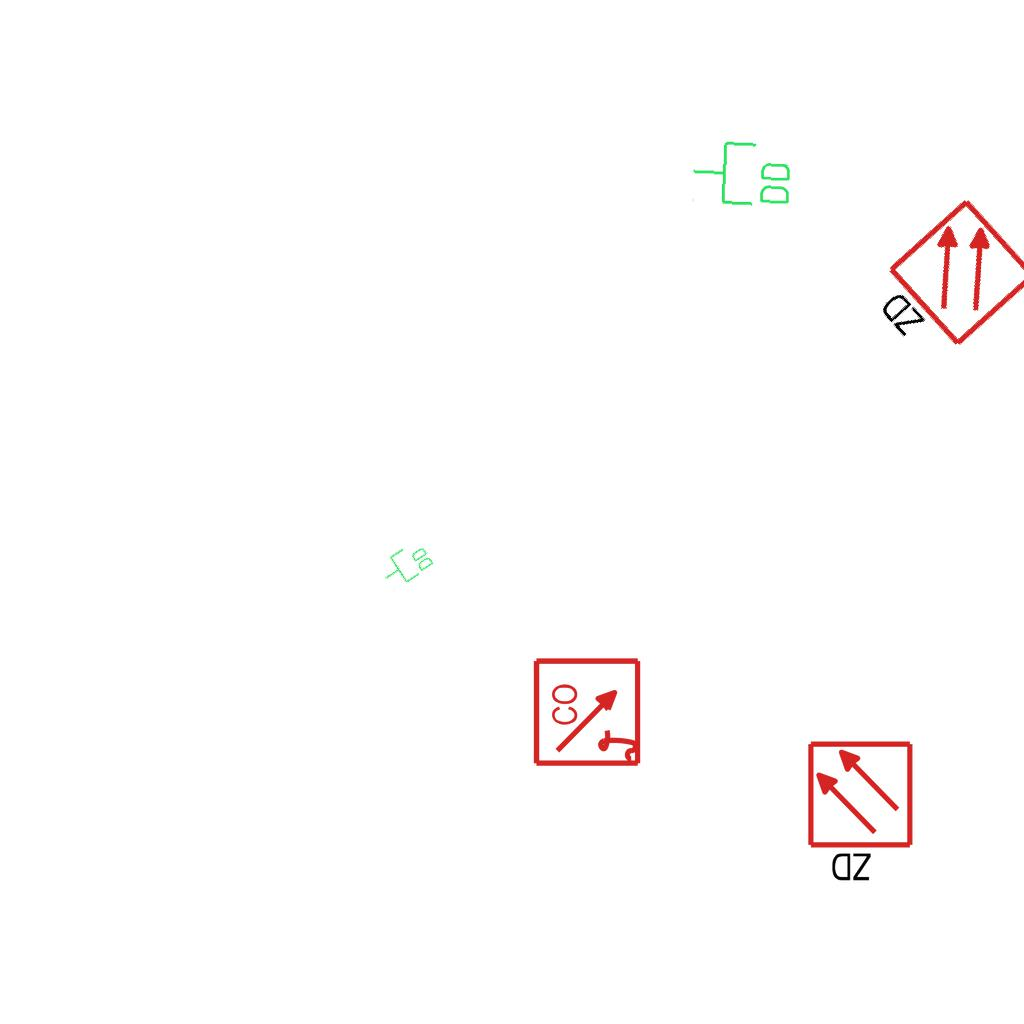Datenanschluss_zweifach: (689, 137, 796, 212), (375, 536, 438, 594)
ROA_Rauchmelder_optisch_mit_Signalgeber_(Sockelsirene): (532, 655, 645, 768)
ZD_Melder_in_Zwischendecke_mit_Revisionsoeffnung_mind_40_x_40_cm: (855, 194, 1024, 379), (805, 739, 919, 888)
